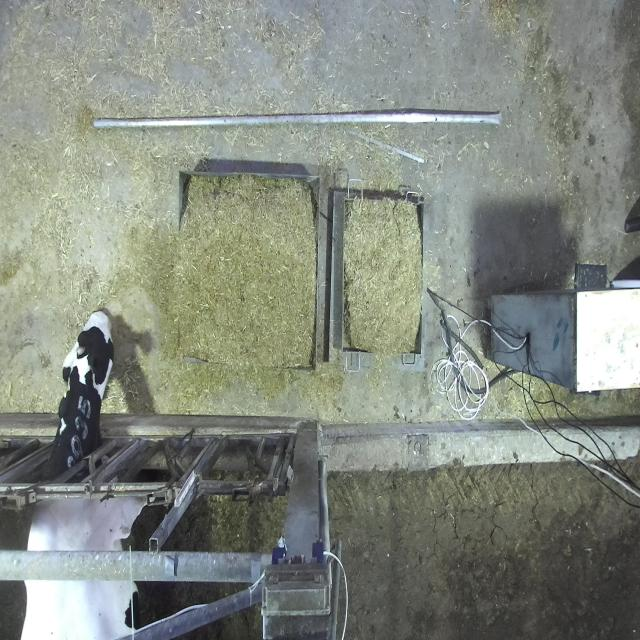cow: (56, 308, 115, 419)
